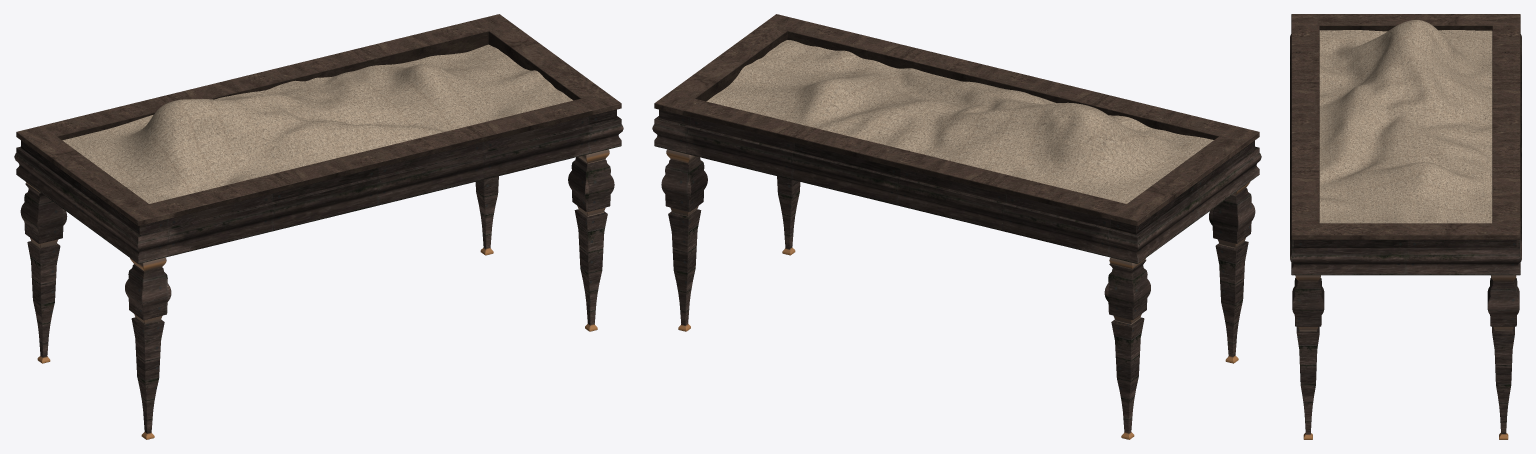
3 renders of one model, left to right at view 1: azimuth 30°, elevation 25°; view 2: azimuth 150°, elevation 25°; view 3: azimuth 270°, elevation 25°, orthographic. The views are drawn at different scales.
Parts seen in each view (by area): view 1: Liege_1, Koerper_0; view 2: Liege_1, Koerper_0; view 3: Koerper_0, Liege_1.
Part boxes in pixels (left/top/right/bottom): Liege_1: left=14, top=14, right=623, bottom=439; Koerper_0: left=62, top=44, right=572, bottom=203; Liege_1: left=652, top=14, right=1261, bottom=439; Koerper_0: left=706, top=40, right=1213, bottom=203; Koerper_0: left=1319, top=20, right=1492, bottom=223; Liege_1: left=1290, top=14, right=1521, bottom=439.
Size of the model in its own units: 4.59 by 2.46 by 2.02.
Materials: 2 (2 with a texture image).
